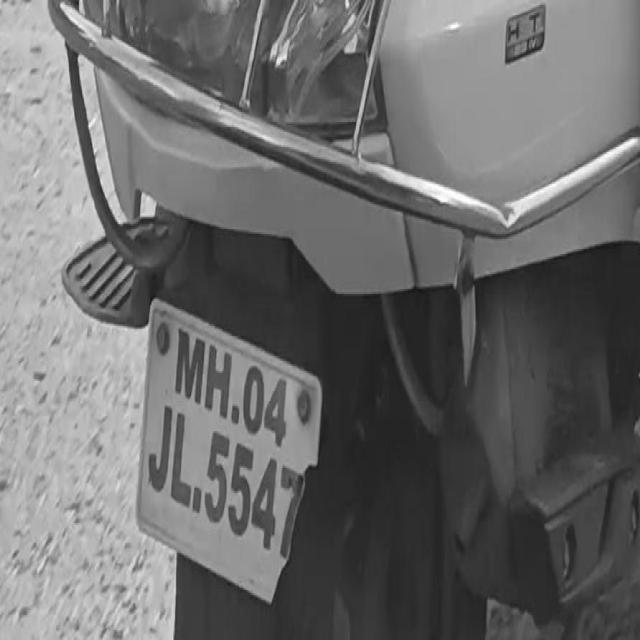license-plate: (135, 304, 322, 603)
